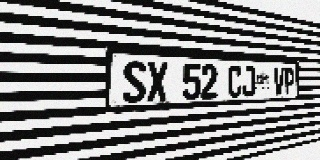2: (201, 64, 217, 99)
5: (183, 63, 201, 100)
C: (228, 65, 242, 98)
J: (242, 66, 255, 97)
P: (284, 68, 294, 95)
S: (123, 61, 146, 103)
V: (274, 67, 284, 95)
X: (147, 62, 168, 102)
